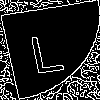L: (25, 25, 67, 74)
